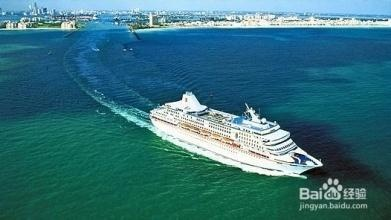youlun: (147, 91, 323, 175)
